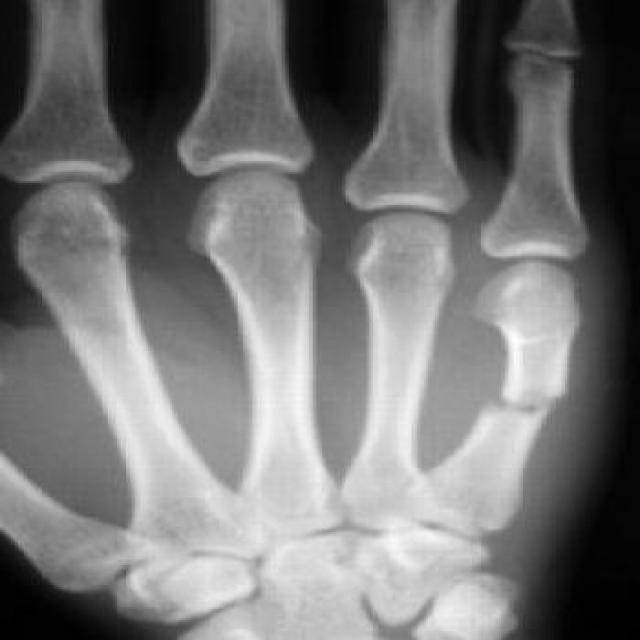Fracture: (463, 372, 594, 434)
